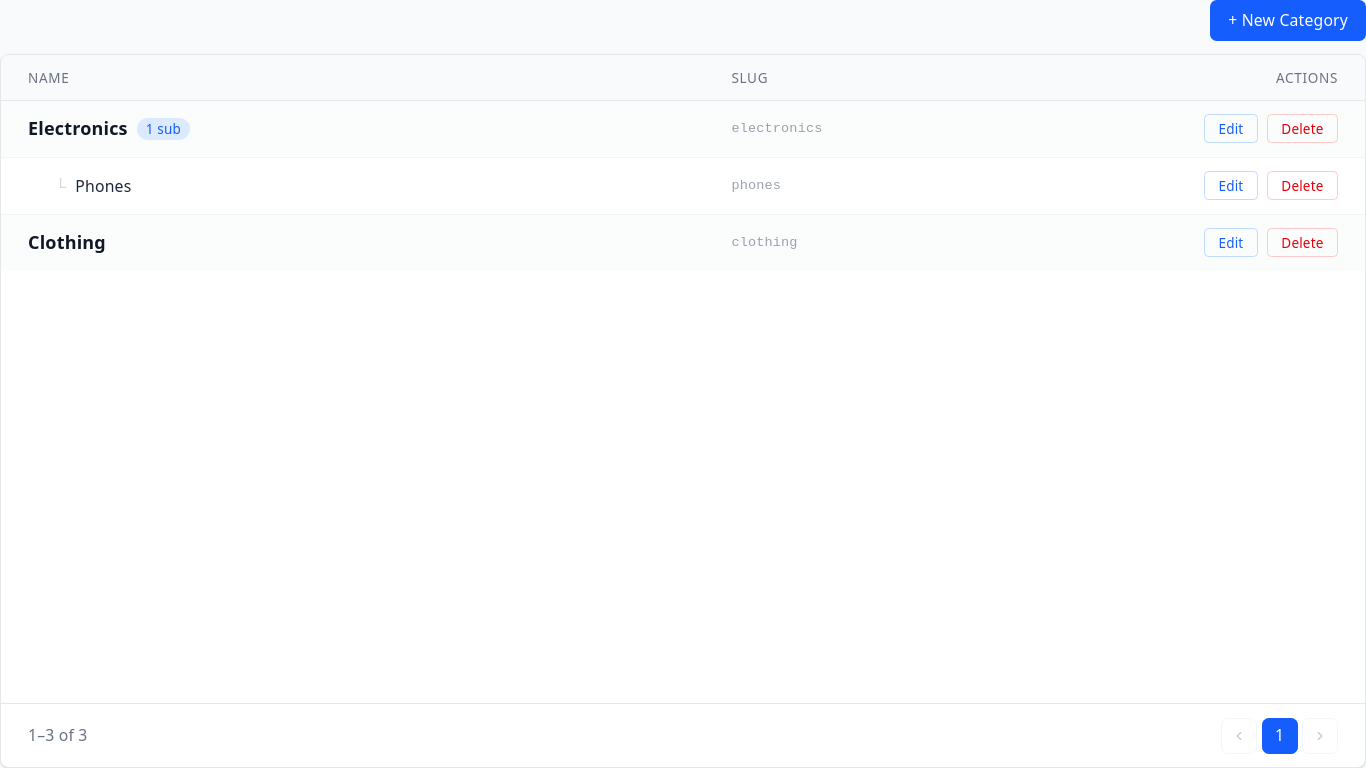
Scenario: CategoryList › closes modal when Cancel is clicked inside the form
Click the button "+ New Category": [1288, 20] box left=1210, top=0, right=1365, bottom=40
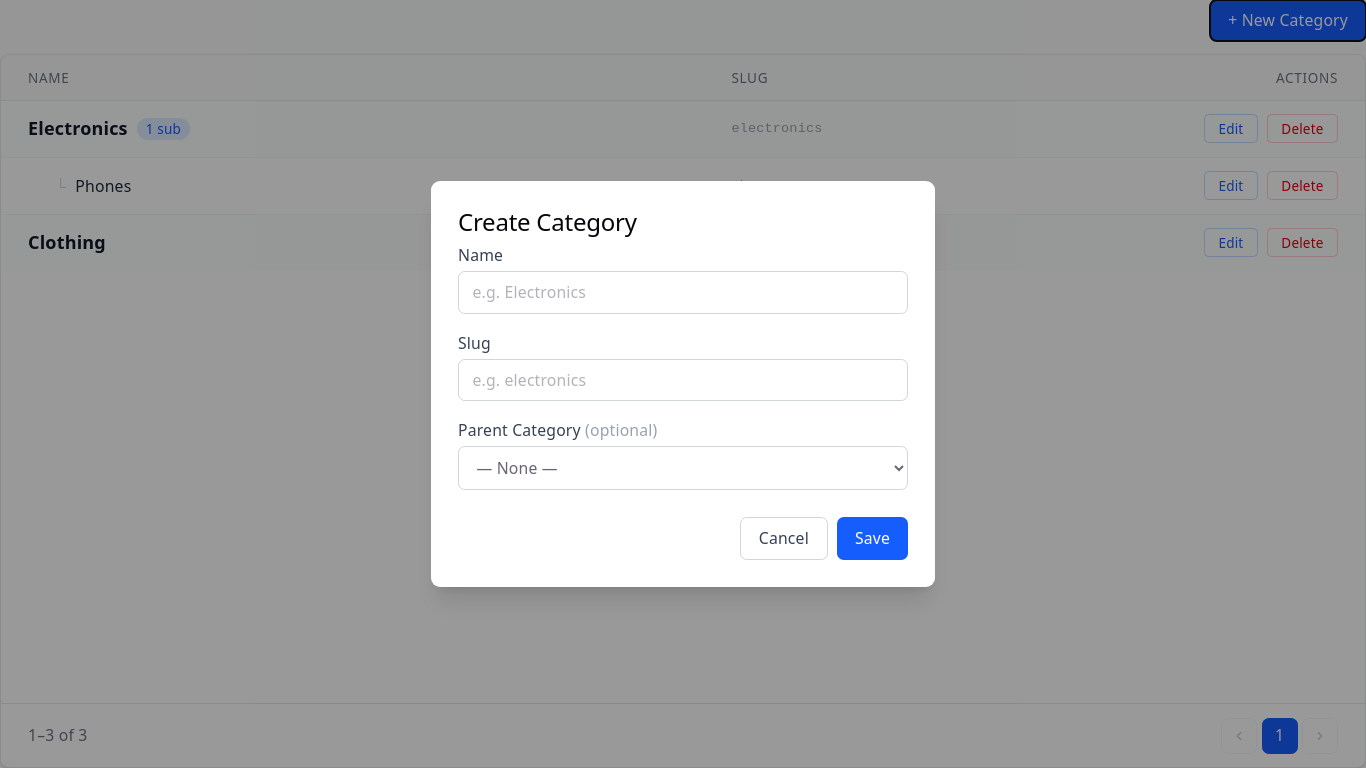
Result: the heading "Create Category" is shown at left=458, top=205, right=637, bottom=238
Click the button "Cancel": [784, 539] box left=740, top=517, right=828, bottom=560
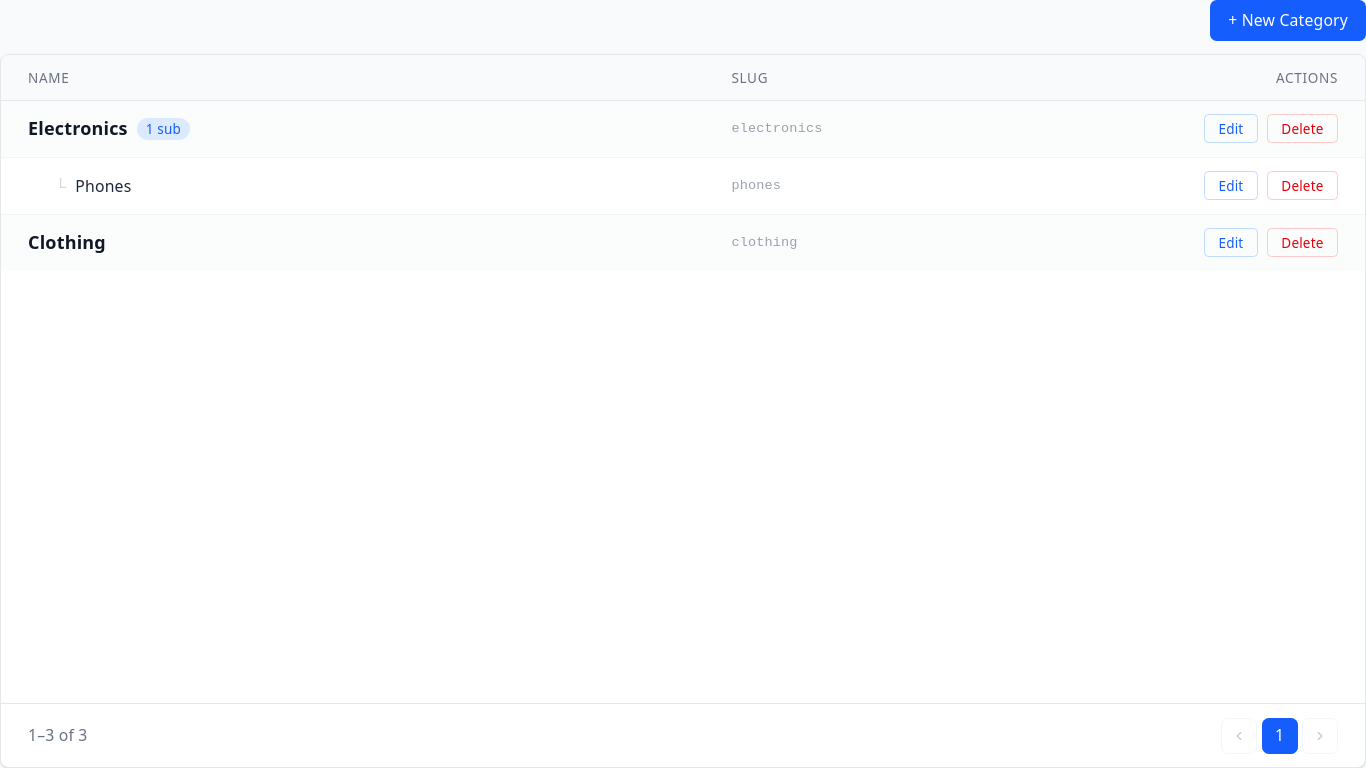
Result: the heading "Create Category" is gone
